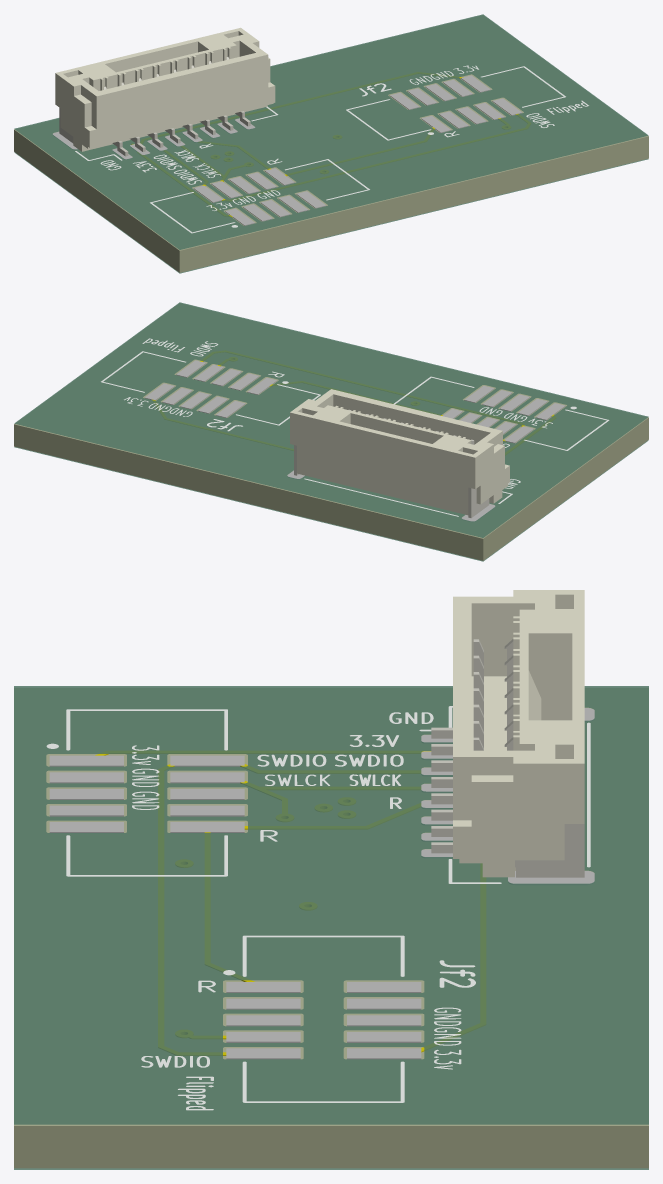
File: aeropcb.glb
The picture shows the model from 3 angles, top to bottom: view 1: azimuth 30°, elevation 25°; view 2: azimuth 150°, elevation 25°; view 3: azimuth 270°, elevation 25°; orthographic projection. The views are drawn at different scales.
Visible parts, largest first — view 1: =>[0:1:1:10], =>[0:1:1:8], =>[0:1:1:3], =>[0:1:1:5], =>[0:1:1:7], =>[0:1:1:4], =>[0:1:1:9]; view 2: =>[0:1:1:10], =>[0:1:1:8], =>[0:1:1:3], =>[0:1:1:5], =>[0:1:1:7], =>[0:1:1:4], =>[0:1:1:9]; view 3: =>[0:1:1:10], =>[0:1:1:8], =>[0:1:1:3], =>[0:1:1:5], =>[0:1:1:7], =>[0:1:1:4], =>[0:1:1:9].
Boxes of the visible parts, <box> form: =>[0:1:1:10]: <box>14,16,648,272</box>; =>[0:1:1:8]: <box>14,14,648,249</box>; =>[0:1:1:3]: <box>55,27,275,156</box>; =>[0:1:1:5]: <box>53,75,522,225</box>; =>[0:1:1:7]: <box>75,65,588,233</box>; =>[0:1:1:4]: <box>131,72,530,217</box>; =>[0:1:1:9]: <box>14,152,648,273</box>; =>[0:1:1:10]: <box>14,304,648,560</box>; =>[0:1:1:8]: <box>14,302,648,537</box>; =>[0:1:1:3]: <box>290,389,509,517</box>; =>[0:1:1:5]: <box>144,360,565,521</box>; =>[0:1:1:7]: <box>101,338,609,516</box>; =>[0:1:1:4]: <box>152,351,555,454</box>; =>[0:1:1:9]: <box>14,440,648,561</box>; =>[0:1:1:10]: <box>14,688,648,1168</box>; =>[0:1:1:8]: <box>14,686,648,1124</box>; =>[0:1:1:3]: <box>431,590,584,877</box>; =>[0:1:1:5]: <box>49,708,594,1059</box>; =>[0:1:1:7]: <box>46,706,590,1110</box>; =>[0:1:1:4]: <box>95,751,485,1055</box>; =>[0:1:1:9]: <box>14,1168,648,1169</box>.
Bounding box in the file's own units: 0.0335 × 0.00584 × 0.0205.
